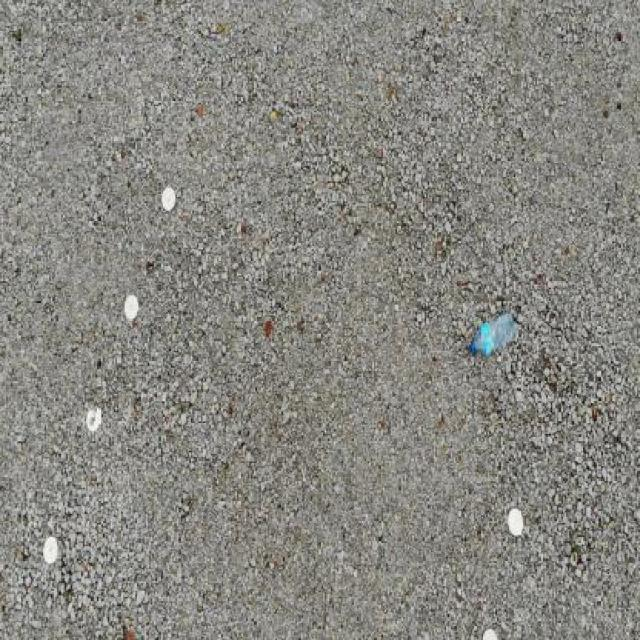Garbage: (470, 311, 518, 355)
